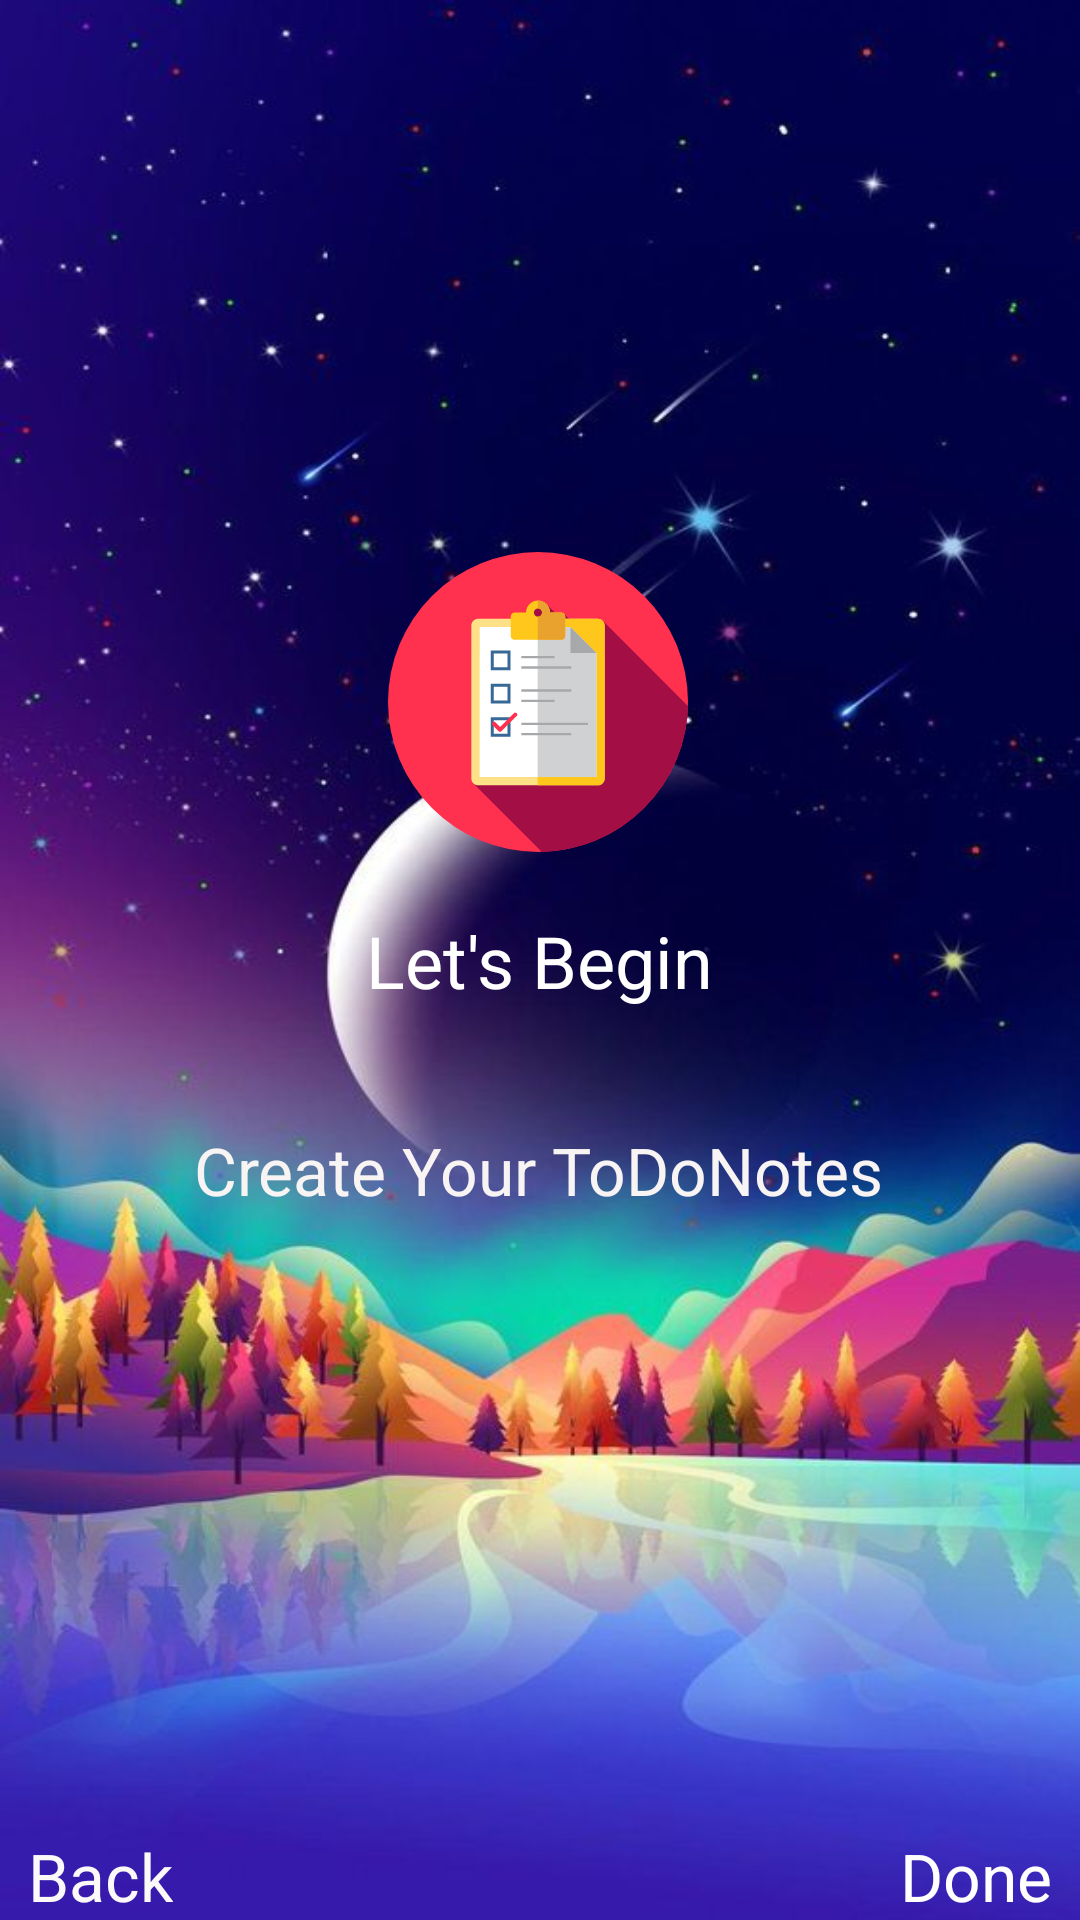

Where icons sit on this 1080 × 1920 app screen, as box(x1, y1, x2, y2):
checklist: box(388, 552, 688, 852)
